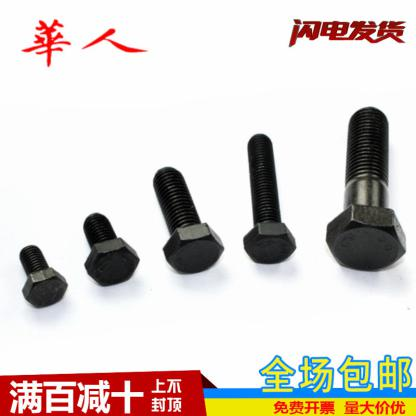FOD: (150, 163, 226, 275), (79, 210, 141, 291), (16, 240, 68, 313)
